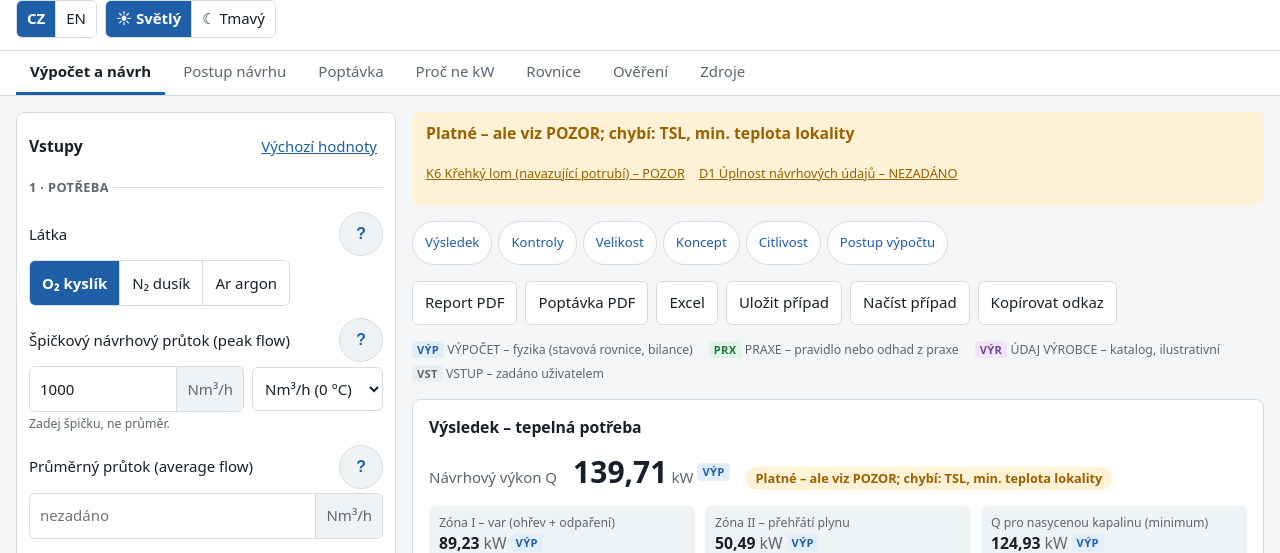
argon v UI › katalog nemá sloupec LAR → žádné modely, žádný přepočet z LOX/LIN
Click the radio button labelled "Ar argon" at (246, 284), box [203,262,289,306]
(page scrolled)
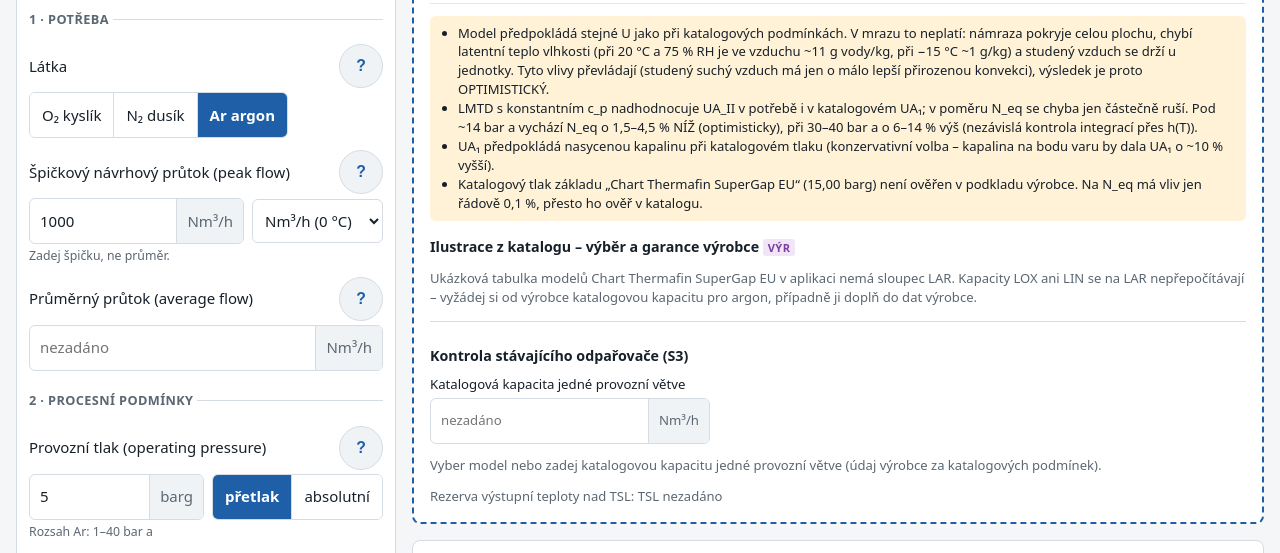
Expected: the text with test id "no-column" shows "nemá sloupec LAR", [430,269,1244,306]
